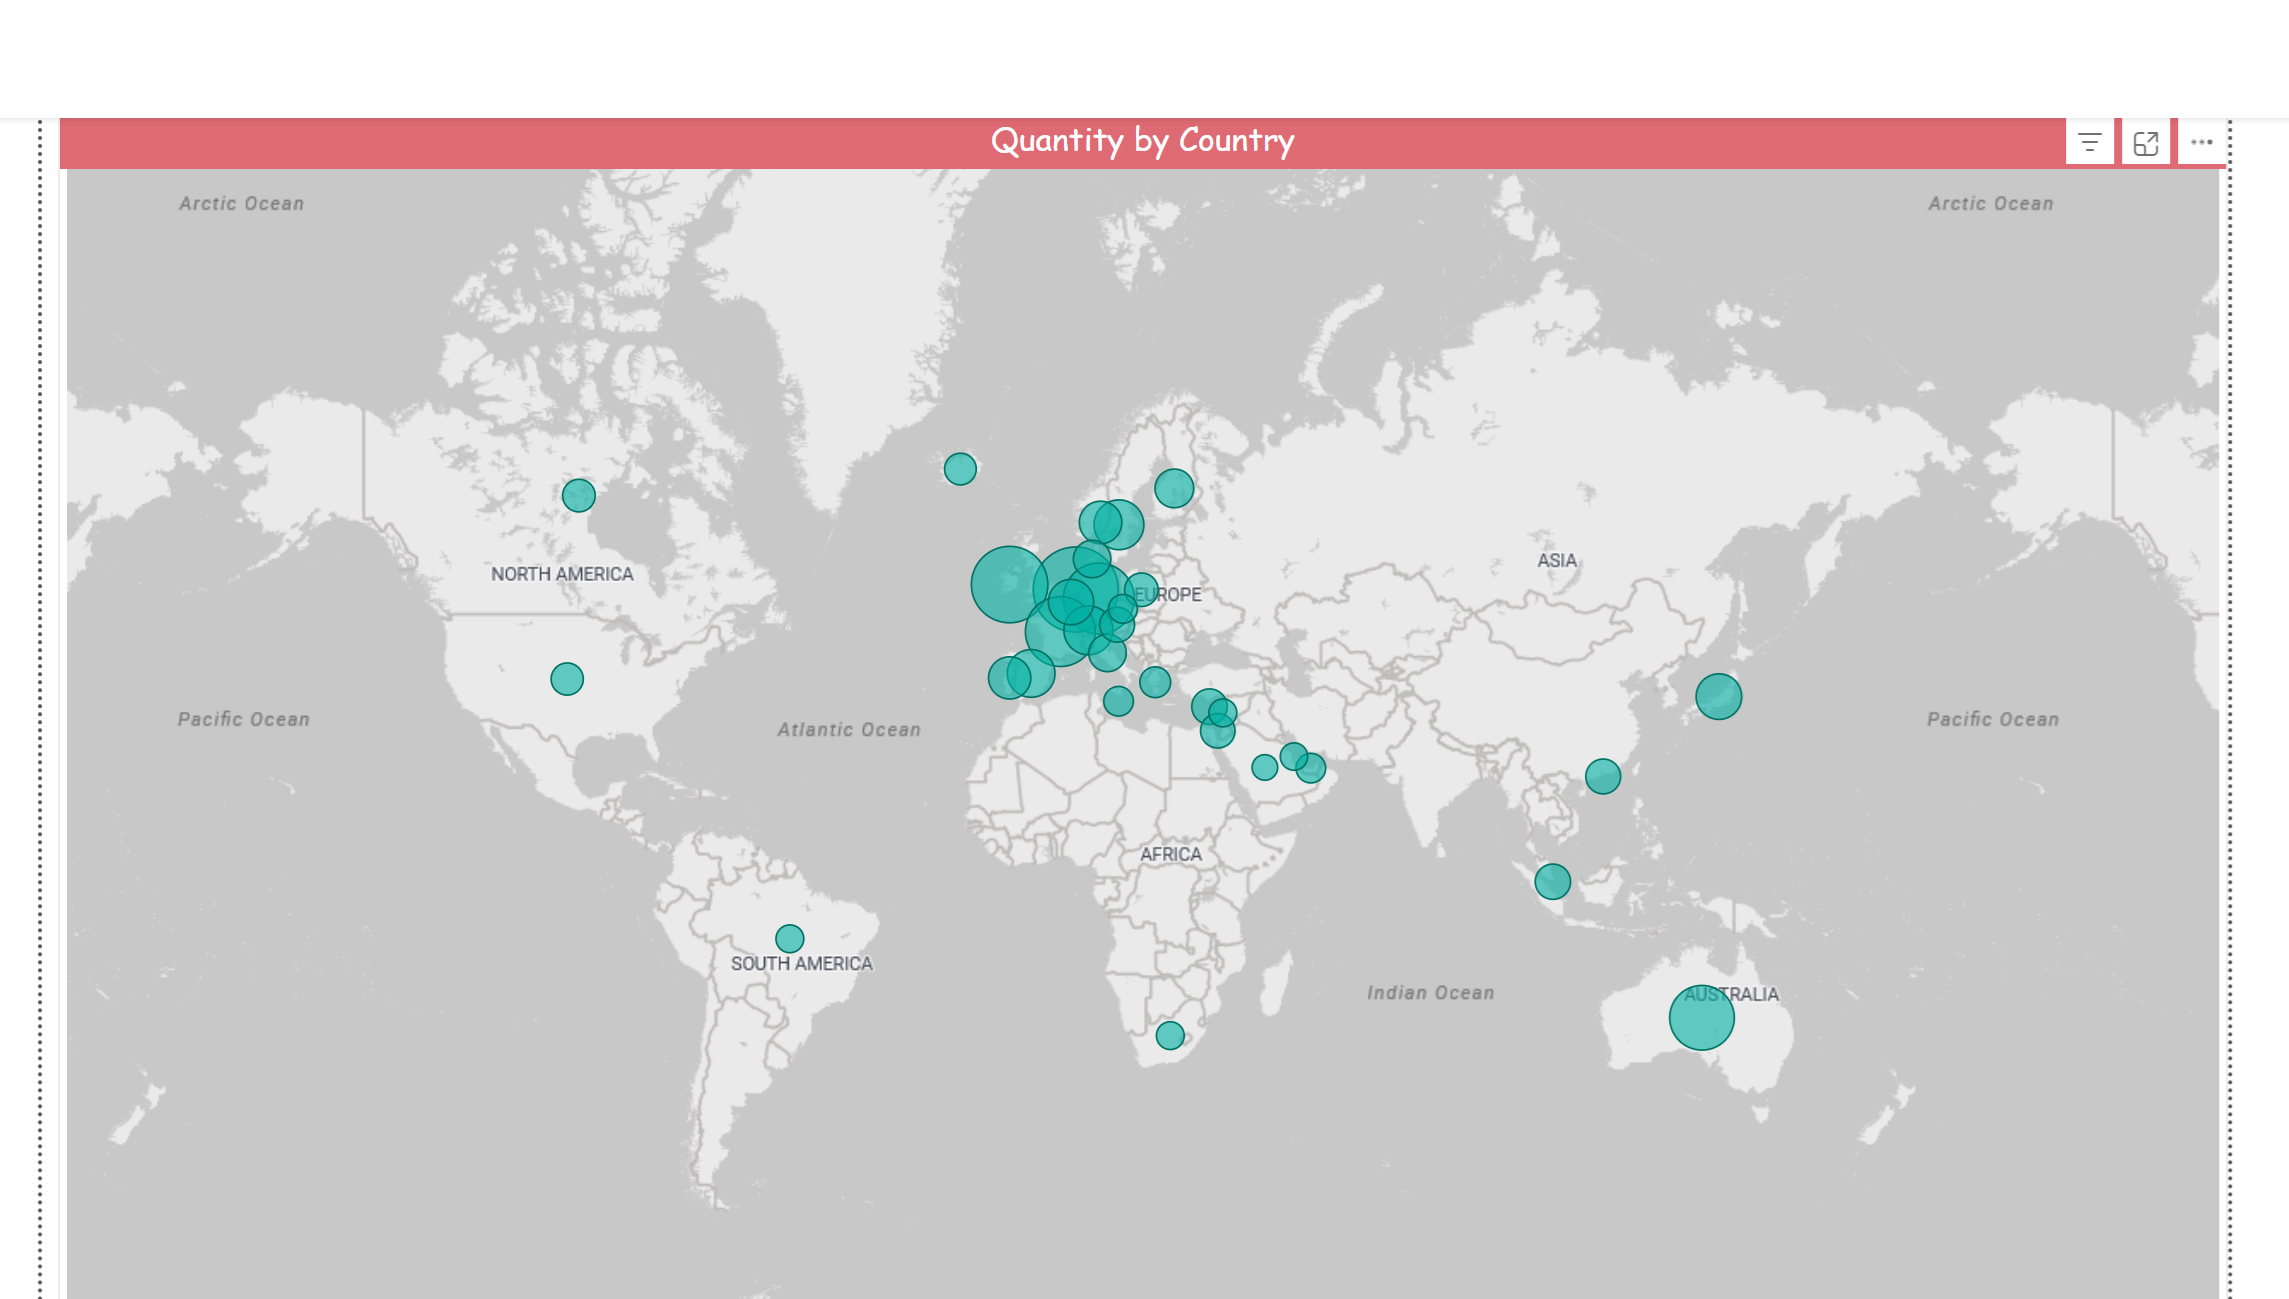

Layout of this report page (visuals, bound fields, positions):
{"tool":"powerbi","page":{"name":"Question 4","canvas":[1280,720],"ordinal":3},"visuals":[{"type":"map","fields":{"Category":["Online Retail.Country"],"Size":["Sum(Online Retail.Quantity)"]},"box":[9.7,0,1270.3,719],"z":0}]}

Visuals, with their boxes on the page's 1280x720 design canvas (x1, y1, x2, y2). These are canvas units, not pixel positions in the 2289x1299 screenshot, which may show the page scaled, cropped or inside an application window:
map - Online Retail.Country x Sum(Online Retail.Quantity): bbox(10, 0, 1280, 719)
